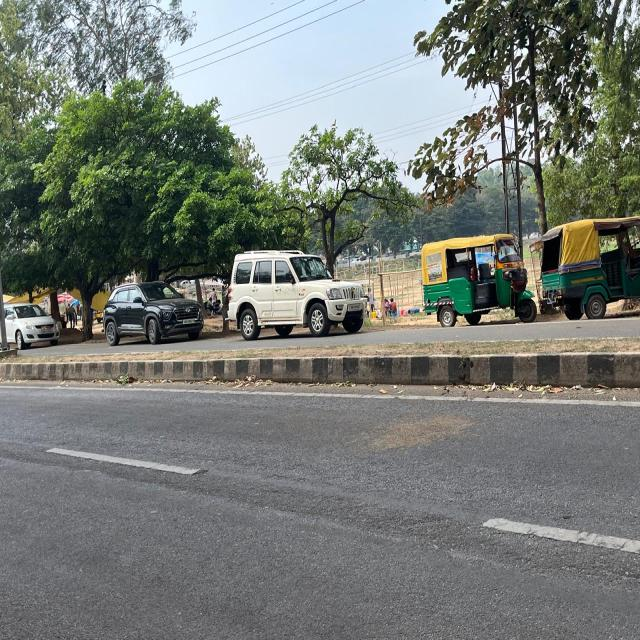car: (224, 243, 370, 342), (96, 279, 208, 349), (6, 298, 59, 356)
